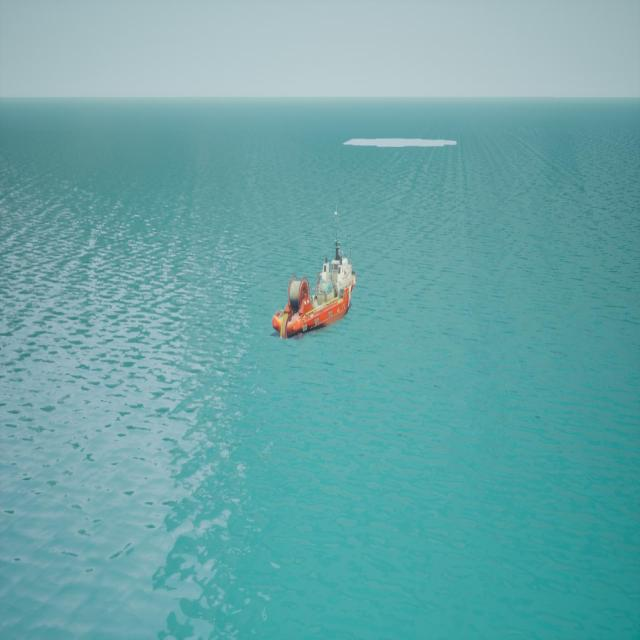tug boat: (273, 205, 357, 346)
